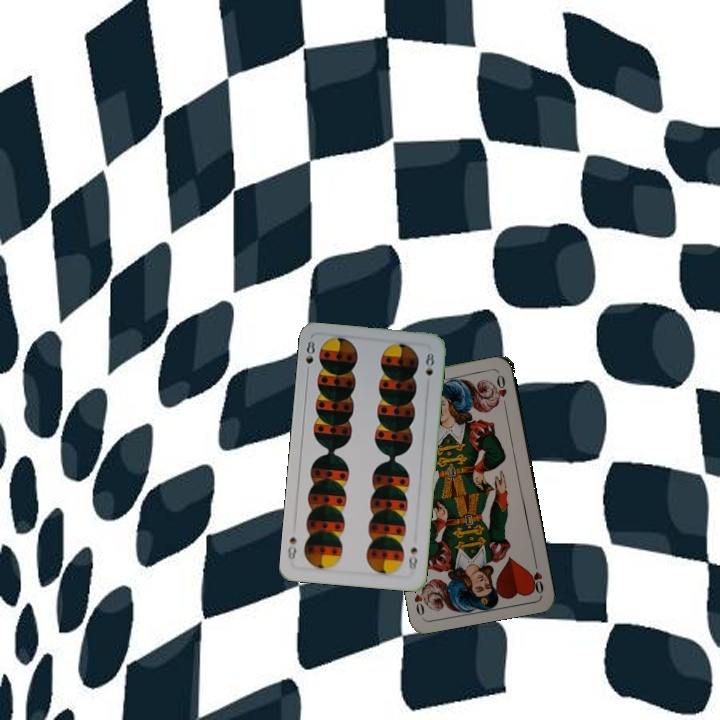HO: (527, 556, 546, 596)
S8: (302, 337, 317, 377), (404, 543, 420, 575)
